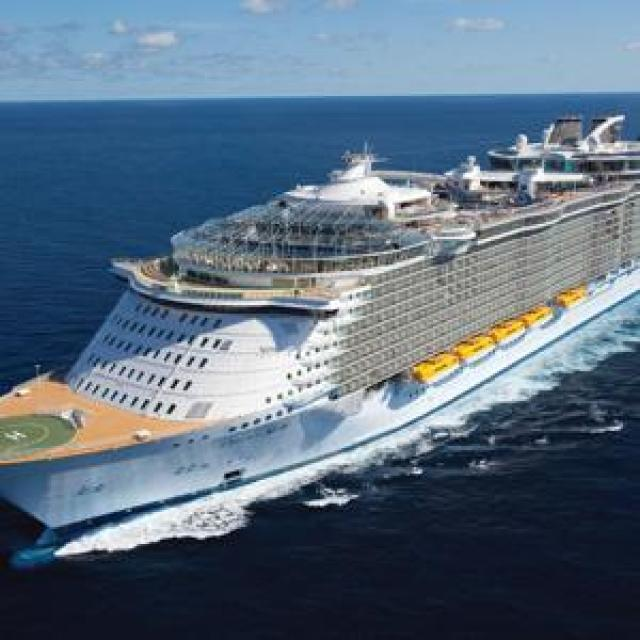passenger ship: (0, 114, 640, 528)
